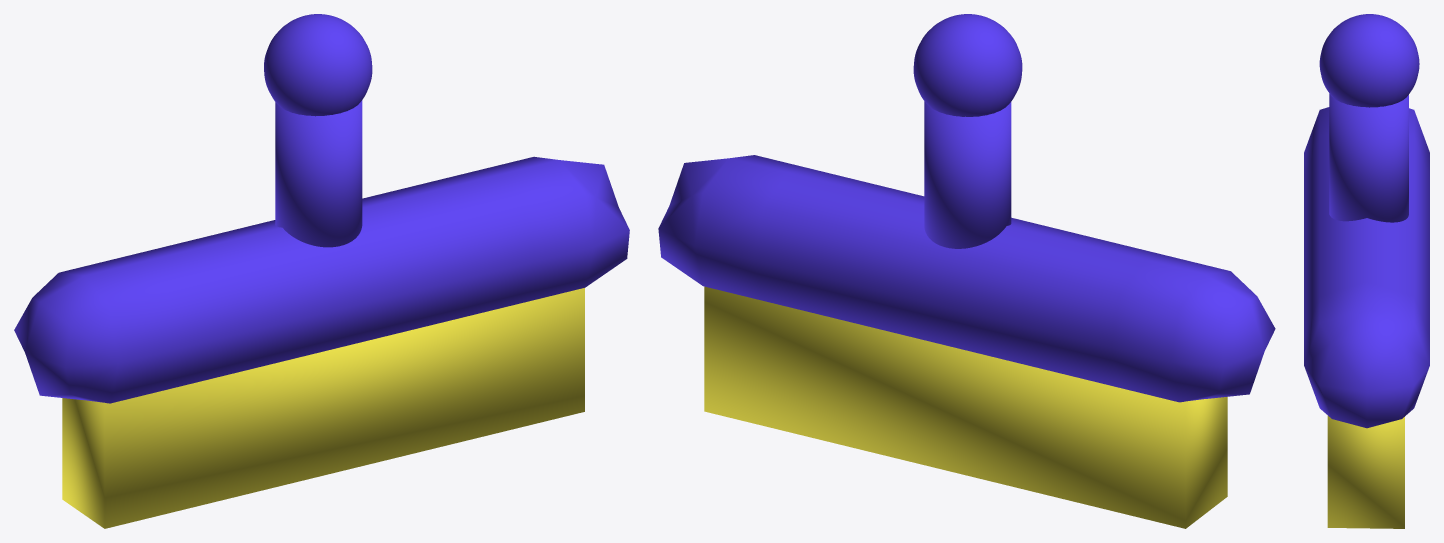
The model's file is blueBrush.dae.
3 views of the same model, side by side, from view 1: azimuth 30°, elevation 25°; view 2: azimuth 150°, elevation 25°; view 3: azimuth 270°, elevation 25° (orthographic). The views are drawn at different scales.
Visible parts, largest first — view 1: Cube, Cube_001, Cylinder, Sphere; view 2: Cube, Cube_001, Cylinder, Sphere; view 3: Cube, Cylinder, Cube_001, Sphere.
Part boxes in pixels (left/top/right/bottom): Cube: left=14, top=156, right=629, bottom=403; Cube_001: left=62, top=288, right=584, bottom=528; Cylinder: left=275, top=100, right=362, bottom=247; Sphere: left=264, top=14, right=372, bottom=116; Cube: left=658, top=155, right=1275, bottom=402; Cube_001: left=704, top=286, right=1227, bottom=528; Cylinder: left=924, top=101, right=1011, bottom=248; Sphere: left=913, top=14, right=1022, bottom=116; Cube: left=1304, top=107, right=1429, bottom=428; Cylinder: left=1329, top=93, right=1408, bottom=222; Cube_001: left=1327, top=415, right=1404, bottom=528; Sphere: left=1319, top=14, right=1419, bottom=107.
Size of the model in its own units: 12.61 by 2.52 by 8.87.
